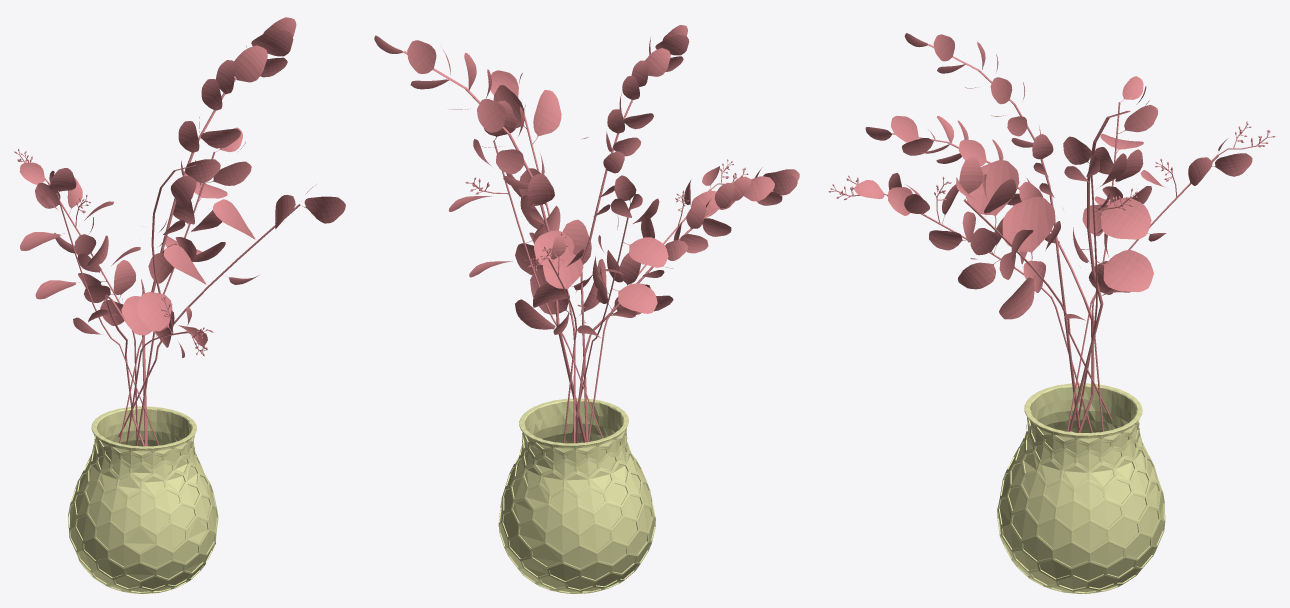
Rendered from 55485_assembly.glb.
3 renders of one model, left to right at view 1: azimuth 30°, elevation 25°; view 2: azimuth 150°, elevation 25°; view 3: azimuth 270°, elevation 25°, orthographic. The views are drawn at different scales.
Visible parts, largest first — view 1: part_00, part_01; view 2: part_00, part_01; view 3: part_00, part_01.
Boxes of the visible parts, <box> form: part_00: <box>14,17,345,446</box>; part_01: <box>68,406,218,593</box>; part_00: <box>374,25,799,443</box>; part_01: <box>498,398,655,593</box>; part_00: <box>828,33,1275,432</box>; part_01: <box>997,383,1165,593</box>.
Size of the model in its own units: 0.7203 by 1.18 by 0.8357.
